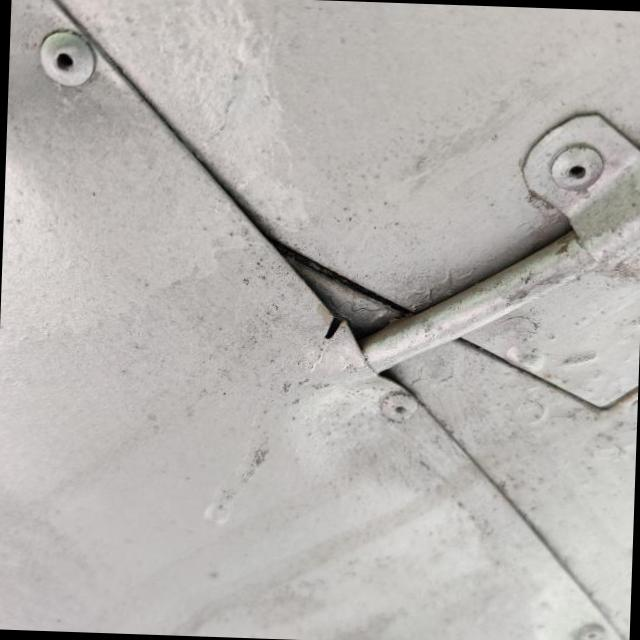Crack: (325, 318, 342, 339)
